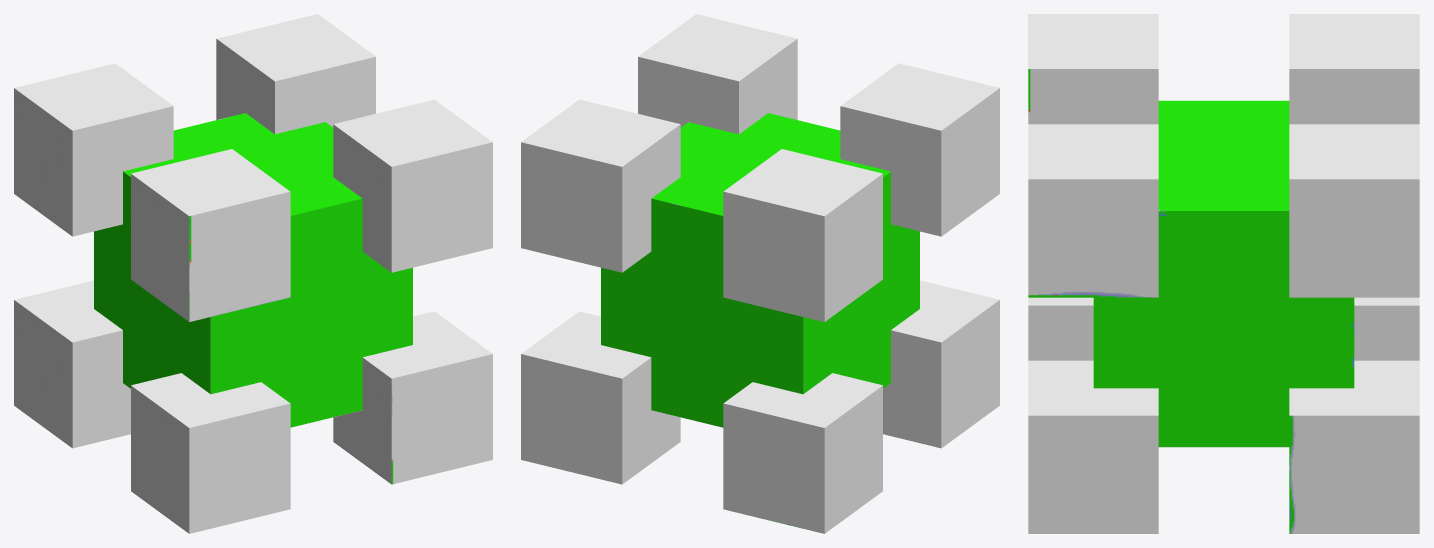
File: enemy2g.obj
The picture shows the model from 3 angles, left to right: view 1: azimuth 30°, elevation 25°; view 2: azimuth 150°, elevation 25°; view 3: azimuth 270°, elevation 25°; orthographic projection. The views are drawn at different scales.
Visible parts, largest first — view 1: 立方体_立方体.015; view 2: 立方体_立方体.015; view 3: 立方体_立方体.015.
Boxes of the visible parts, box(x1,y1,x2,y2) form: 立方体_立方体.015: box(14, 14, 492, 533); 立方体_立方体.015: box(521, 14, 999, 533); 立方体_立方体.015: box(1028, 14, 1419, 533).
Size of the model in its own units: 3 by 3 by 3.
1 material, 1 textured.
